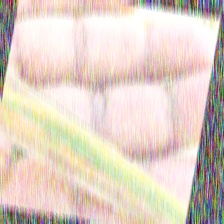Leaf_Blast: (0, 75, 153, 202)
